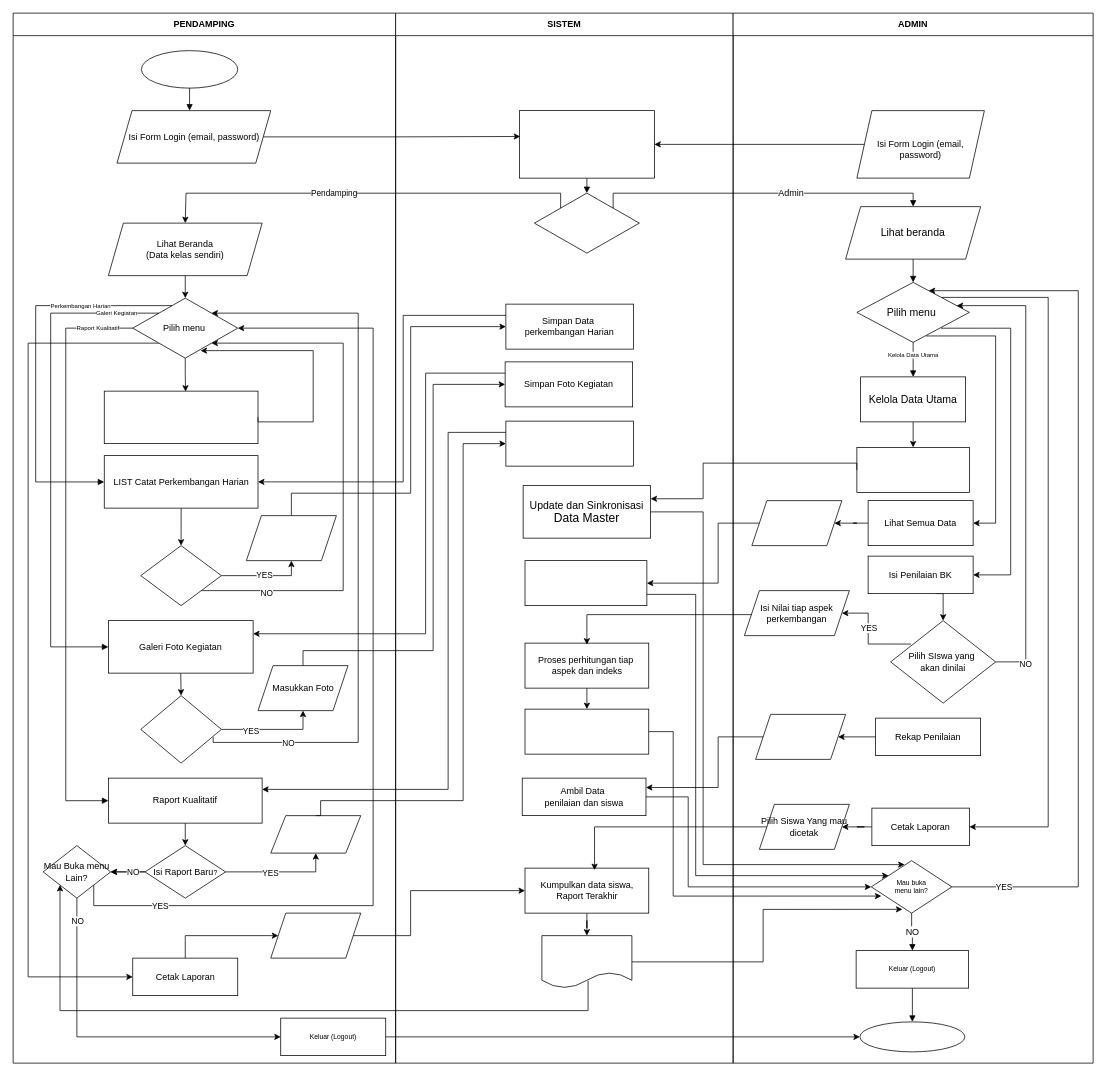
Some shapes in this 1106 by 1076 pixel diagram are drawn without their labels. Here are the shapes that lost their labels. From the top down, the centre of each, then its label:
At [189,69]: "Mulai".
At [586,144]: "Periksa email & sandi yang dimasukkan".
At [586,222]: "Login sesuai Akun".
At [181,417]: "Lihat Data Siswa".
At [569,443]: "Simpan Data raport Kualitatif".
At [912,469]: "Kelola data Siswa dan guru (Tambah,Edit,Hapus Reset PW))".
At [291,538]: "Masukkan data perkembangan Harian".
At [796,523]: "Pilih Jenis Data yang ingin dilihat".
At [180,575]: "Input Catatan Perkembangan Harian".
At [585,583]: "Ambil data yang dipilih dari seluruh Siswa".
At [180,729]: "Input foto kegiatan".
At [586,731]: "Hasil Penilaian tersimpan dan ditampilkan".
At [800,736]: "Pilih Siswa".
At [315,834]: "Isi Raport 5 aspek".
At [315,935]: "Pilih Laporan siswa yang diampu".
At [586,961]: "Laporan dicetak atau diunduh PDF".
At [912,1036]: "Selesai".
